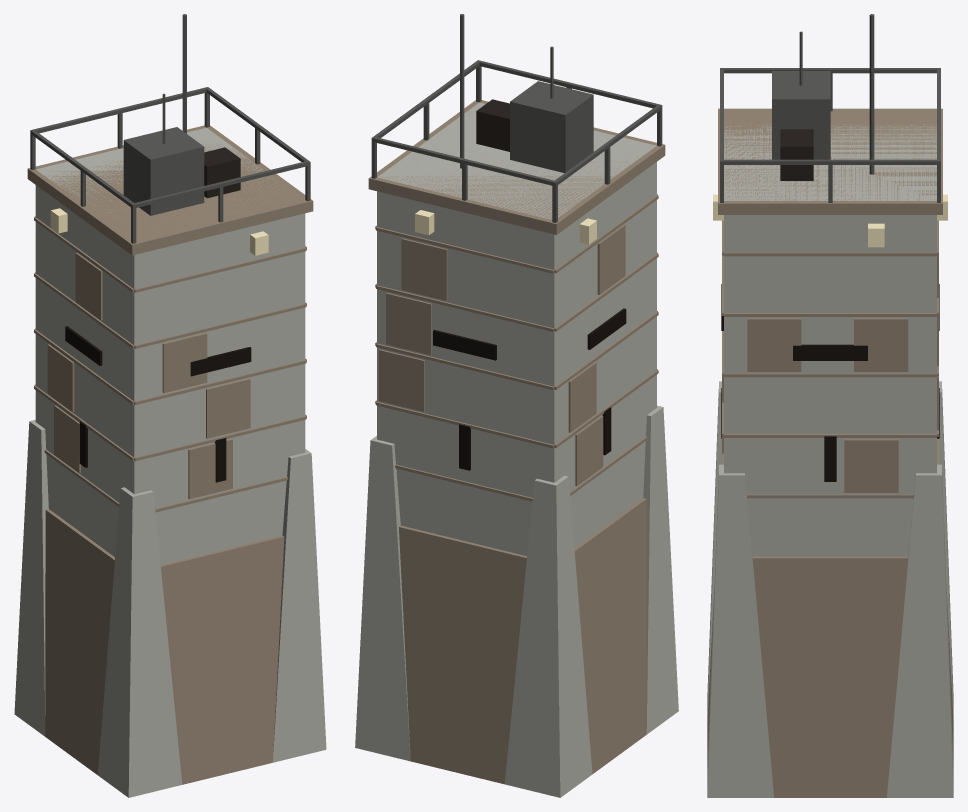
File: fort_yard_tower.glb
The picture shows the model from 3 angles, left to right: view 1: azimuth 30°, elevation 25°; view 2: azimuth 150°, elevation 25°; view 3: azimuth 270°, elevation 25°; orthographic projection. The views are drawn at different scales.
Visible parts, largest first — view 1: fort_yard_tower; view 2: fort_yard_tower; view 3: fort_yard_tower.
Boxes of the visible parts, x1,y1,x2,y2 form: fort_yard_tower: (14,14,326,797); fort_yard_tower: (355,14,678,797); fort_yard_tower: (707,14,953,797).
Size of the model in its own units: 5.9 by 19.8 by 5.9.
